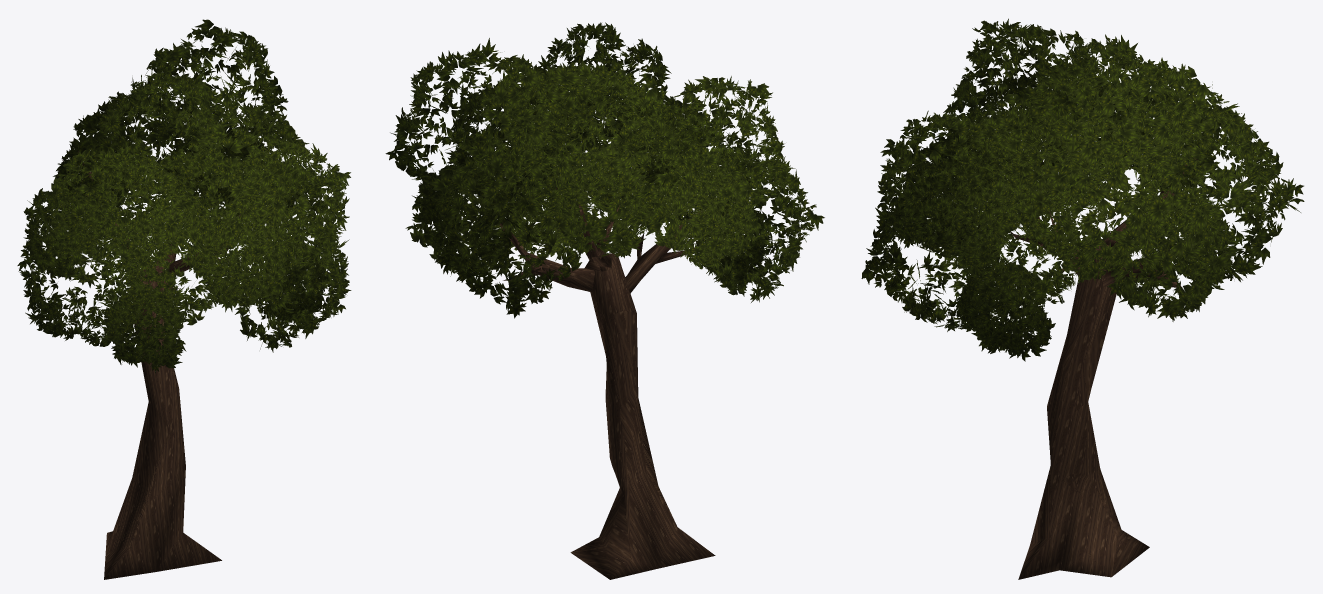
File: LargeTree_02.fbx
The picture shows the model from 3 angles, left to right: view 1: azimuth 30°, elevation 25°; view 2: azimuth 150°, elevation 25°; view 3: azimuth 270°, elevation 25°; orthographic projection. The views are drawn at different scales.
Parts seen in each view (by area): view 1: leaf3.001, Cylinder.006; view 2: leaf3.001, Cylinder.006; view 3: leaf3.001, Cylinder.006.
Part boxes in pixels (x1,y1,x2,y2): leaf3.001: [17, 19, 351, 373]; Cylinder.006: [61, 139, 245, 579]; leaf3.001: [385, 22, 824, 318]; Cylinder.006: [499, 175, 715, 579]; leaf3.001: [861, 18, 1304, 361]; Cylinder.006: [1011, 158, 1197, 579].
Bounding box in the file's own units: 859 × 1171 × 894.
